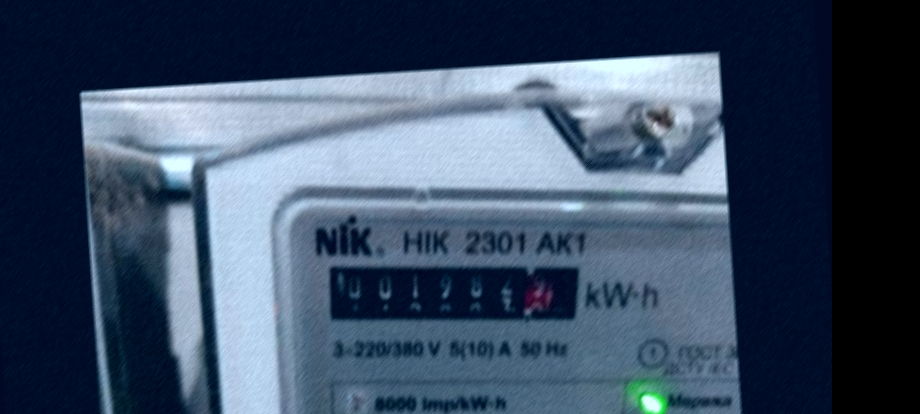0: (376, 272, 395, 302), (346, 271, 364, 301)
1: (408, 270, 422, 300)
2: (498, 267, 518, 297)
8: (468, 270, 486, 299)
9: (529, 271, 551, 300), (437, 271, 454, 301)
screen: (311, 236, 597, 350)
